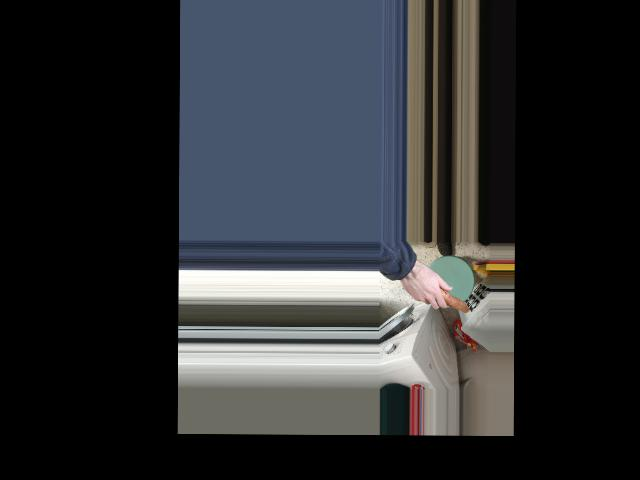sweet_potato: (416, 274, 467, 313)
